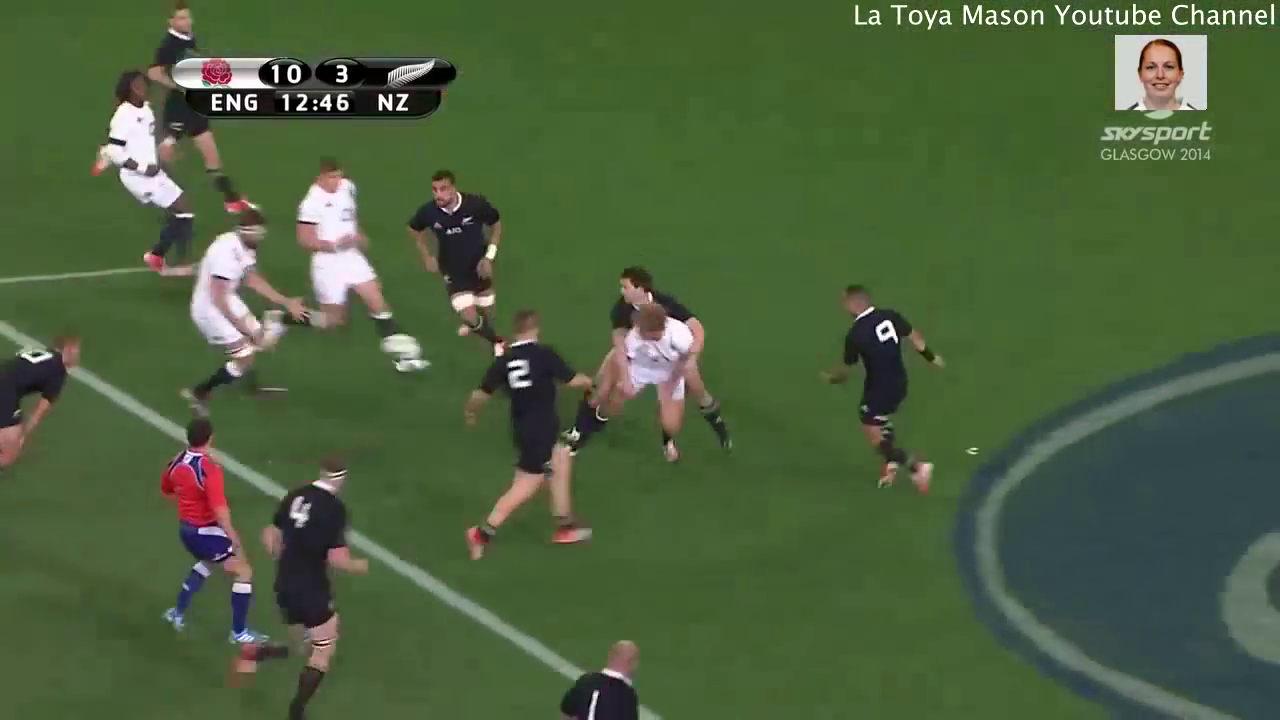ball: (372, 326, 433, 368)
player: (453, 305, 604, 560), (226, 456, 365, 720), (293, 152, 434, 376), (811, 275, 943, 498), (161, 216, 305, 416), (158, 406, 274, 652), (563, 303, 693, 474), (106, 65, 201, 284), (403, 168, 509, 349), (1, 324, 88, 479), (555, 632, 650, 720), (596, 264, 708, 331)
